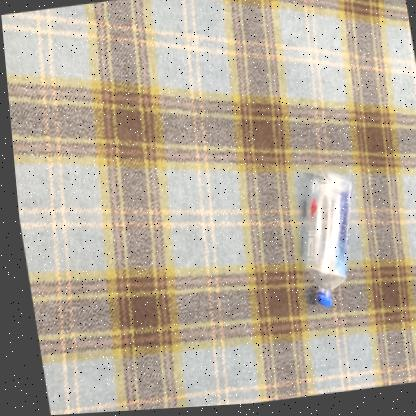Plastic: (298, 176, 347, 310)
